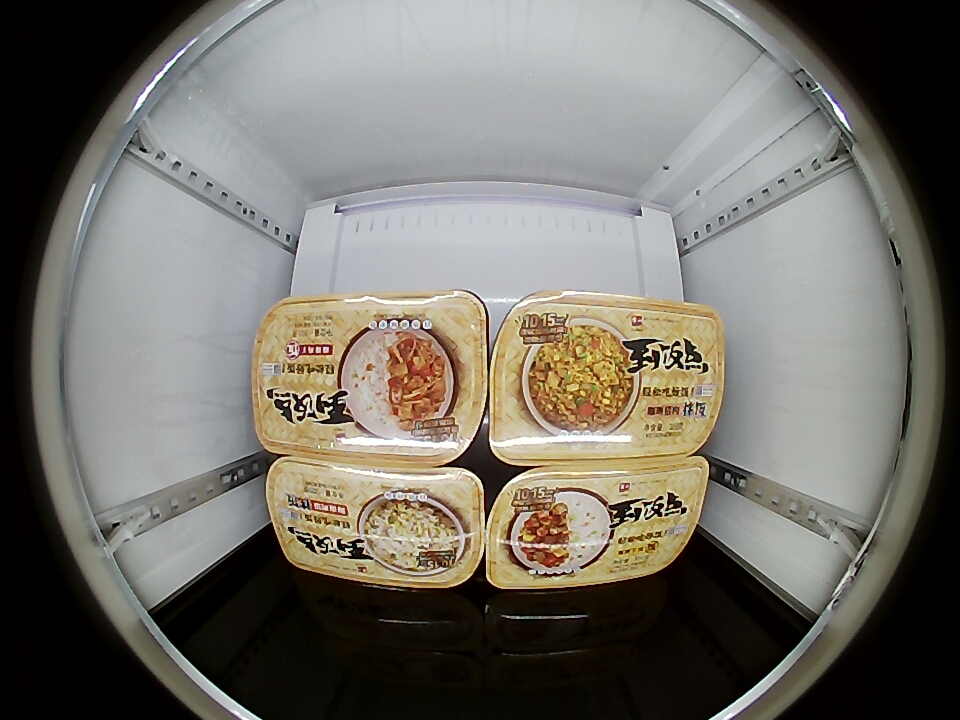daofandian1: (264, 458, 489, 590)
daofandian2: (483, 460, 710, 591)
daofandian3: (487, 291, 726, 463)
daofandian4: (250, 291, 493, 465)
